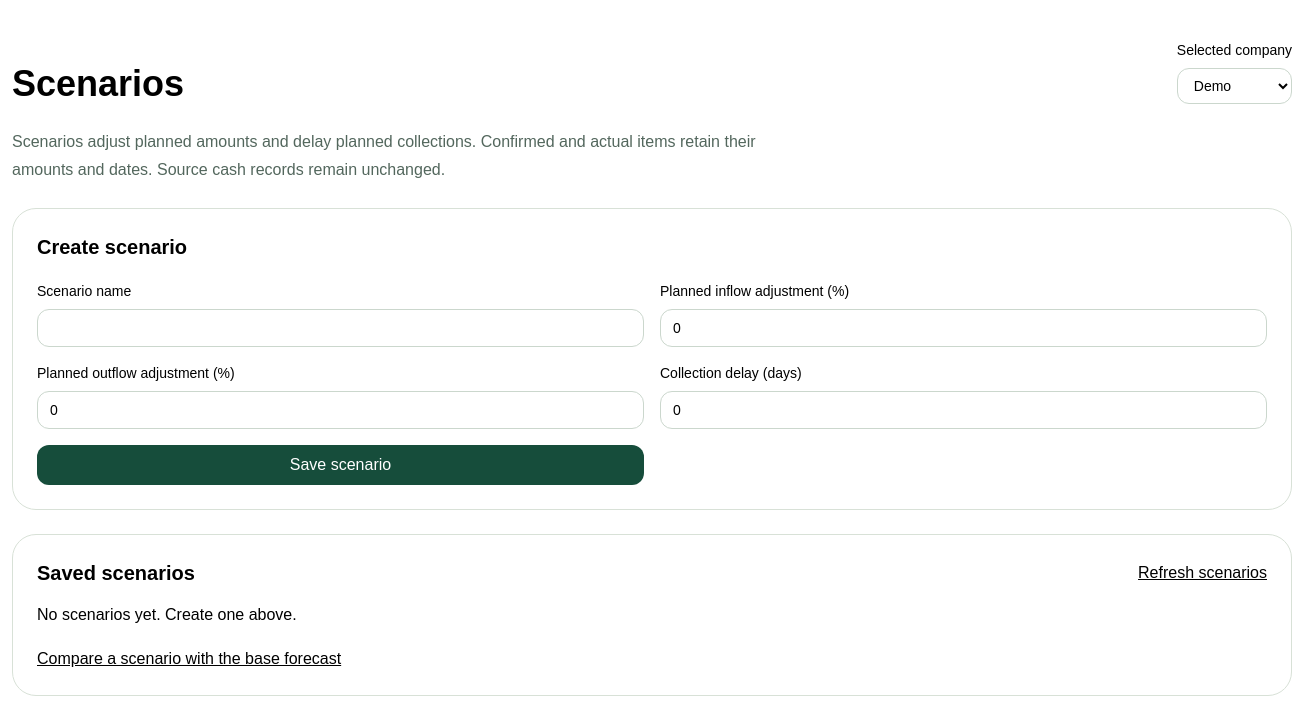
Test case: scenario form sends settings and deletion needs confirmation
Expected: the text "No scenarios yet. Create one above." is shown, [37,606,297,623]
Type "Downside" into the field labelled "Scenario name".
click(340, 328); type("Downside")  # box [37,309,644,347]
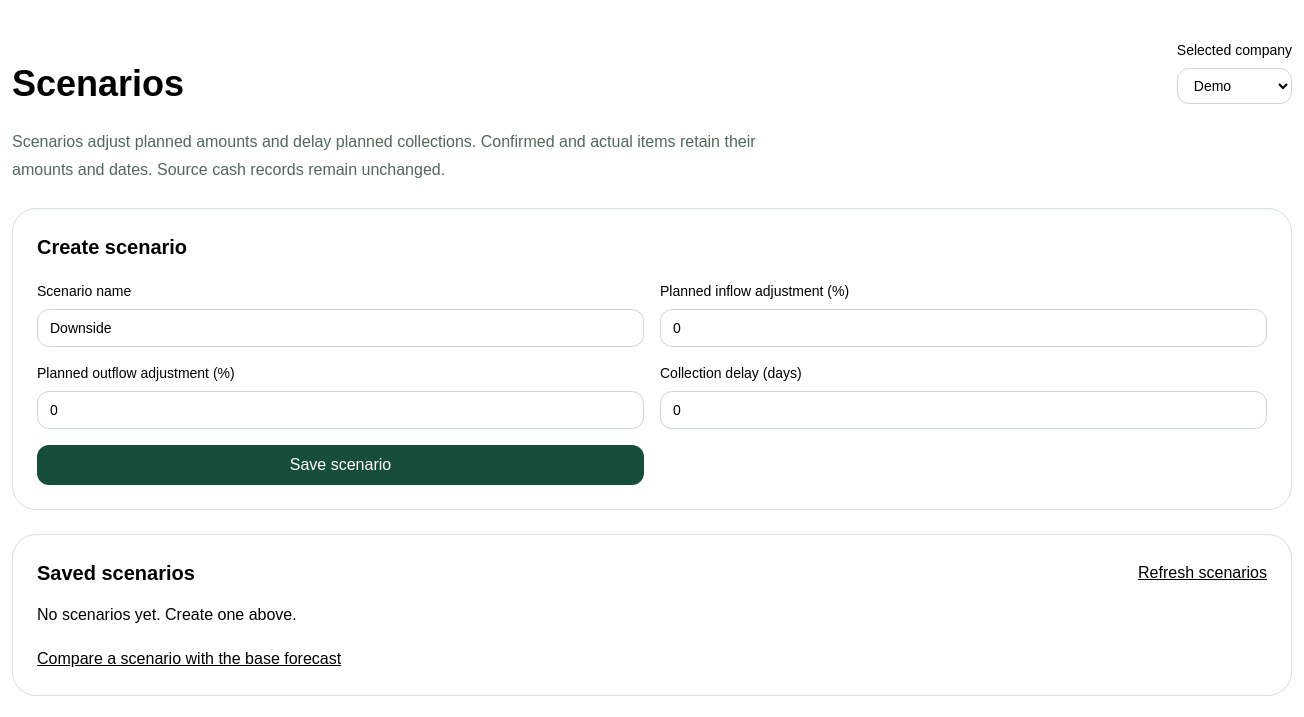
Replace the text in the number field labelled "Collection delay (days)" with "7" at [964, 410], box [660,391,1267,429]
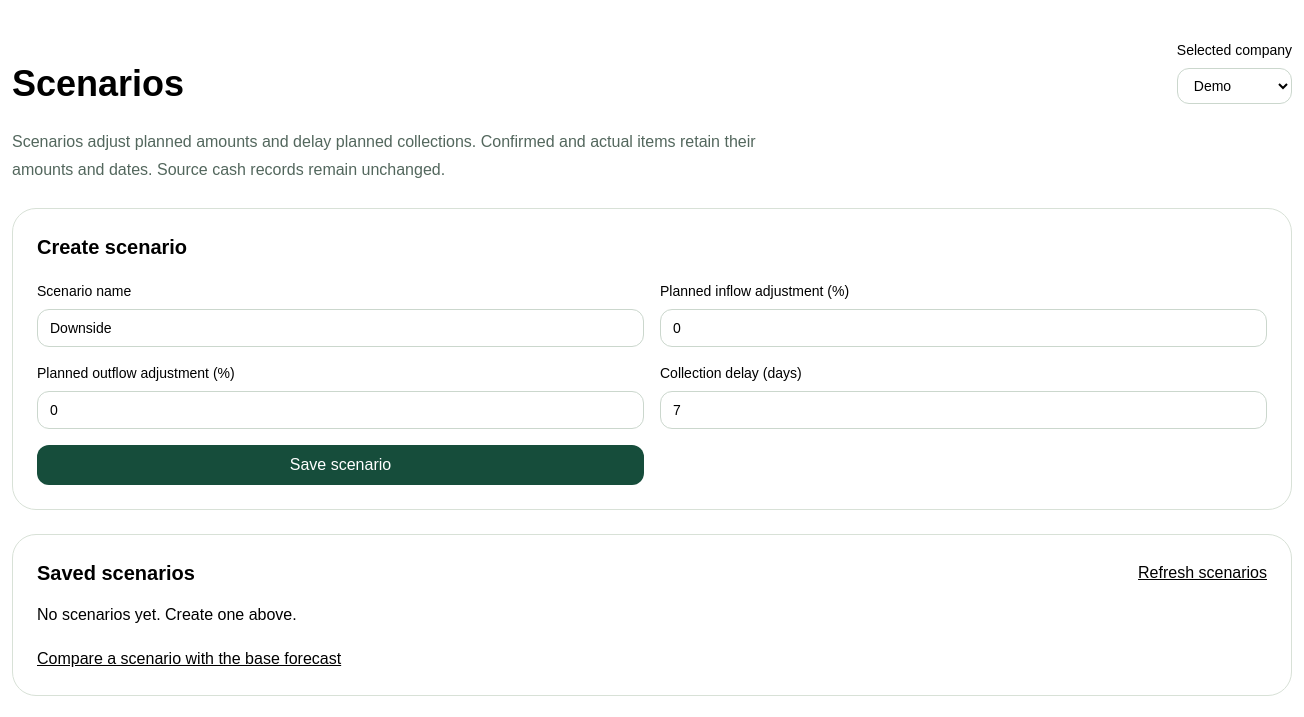
Submit the form named "Scenario settings", box [12,208,1292,510]
(page scrolled)
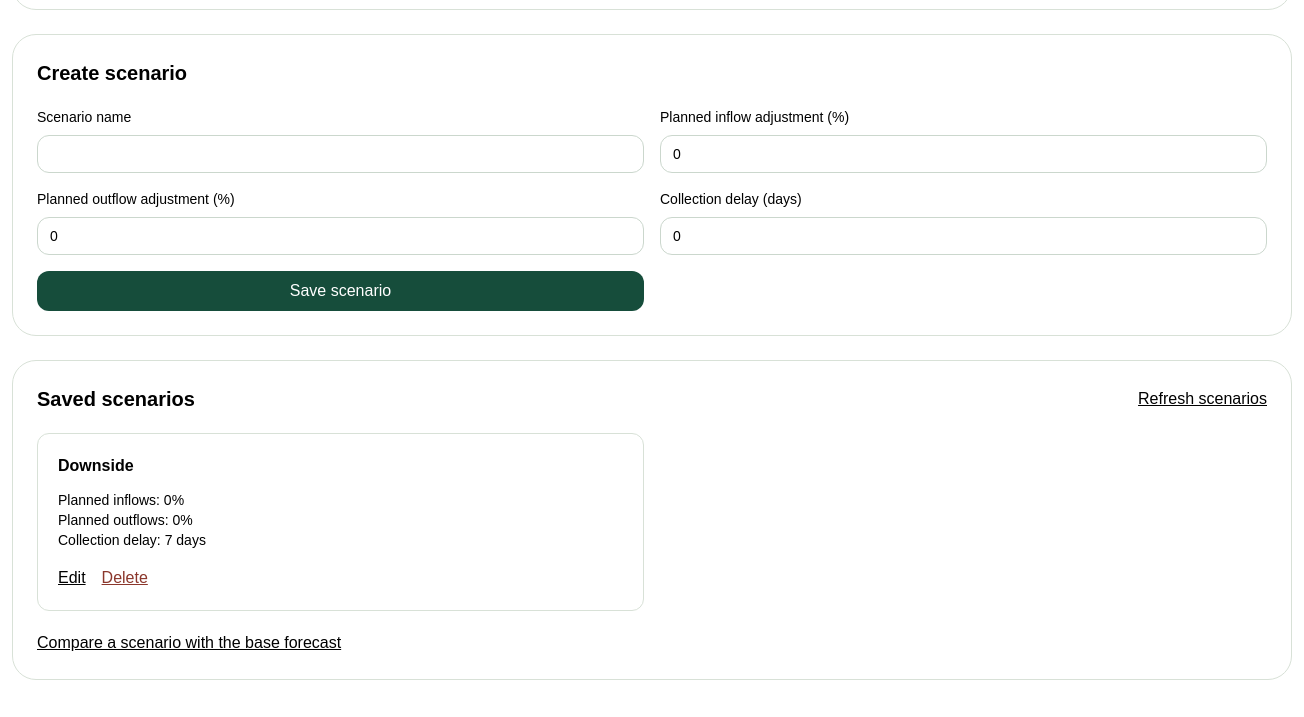
Now the button with aria-label "Delete scenario Downside" is shown
Click the button with aria-label "Delete scenario Downside".
click(125, 578)  # box [102,566,148,590]
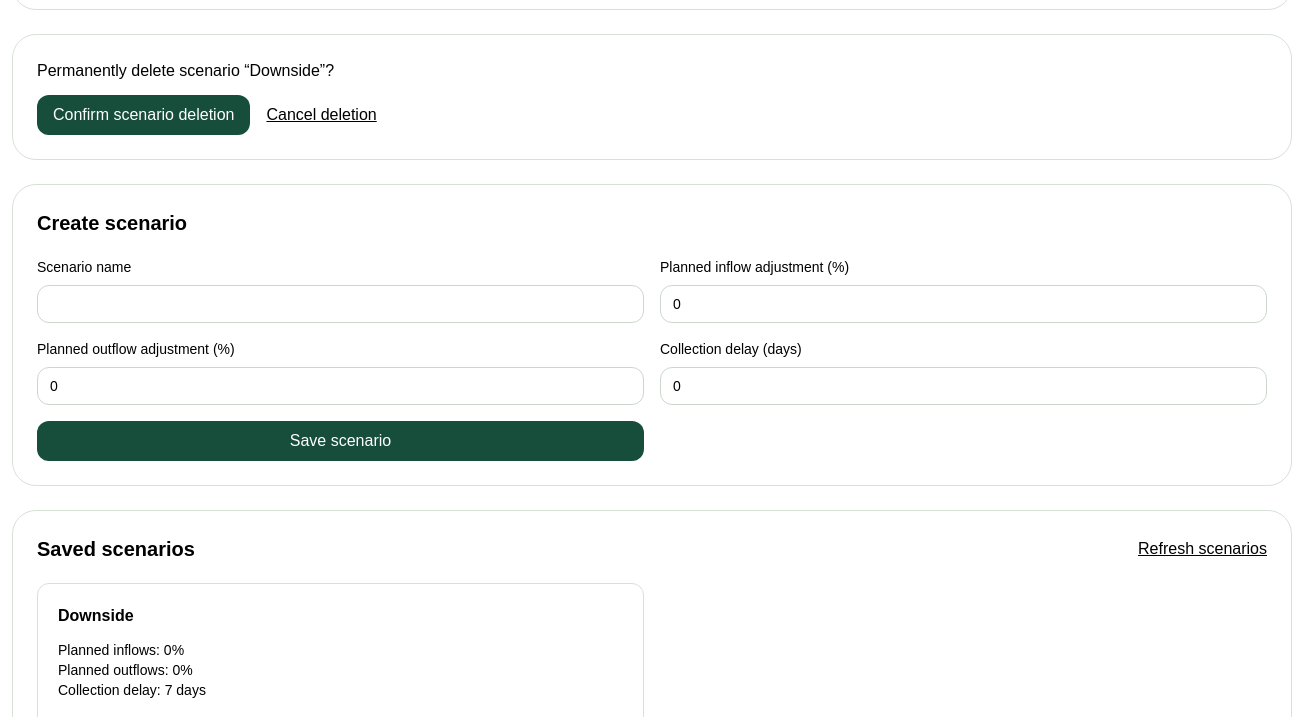
Click the button "Confirm scenario deletion".
click(144, 115)  # box [37,95,250,135]
(page scrolled)
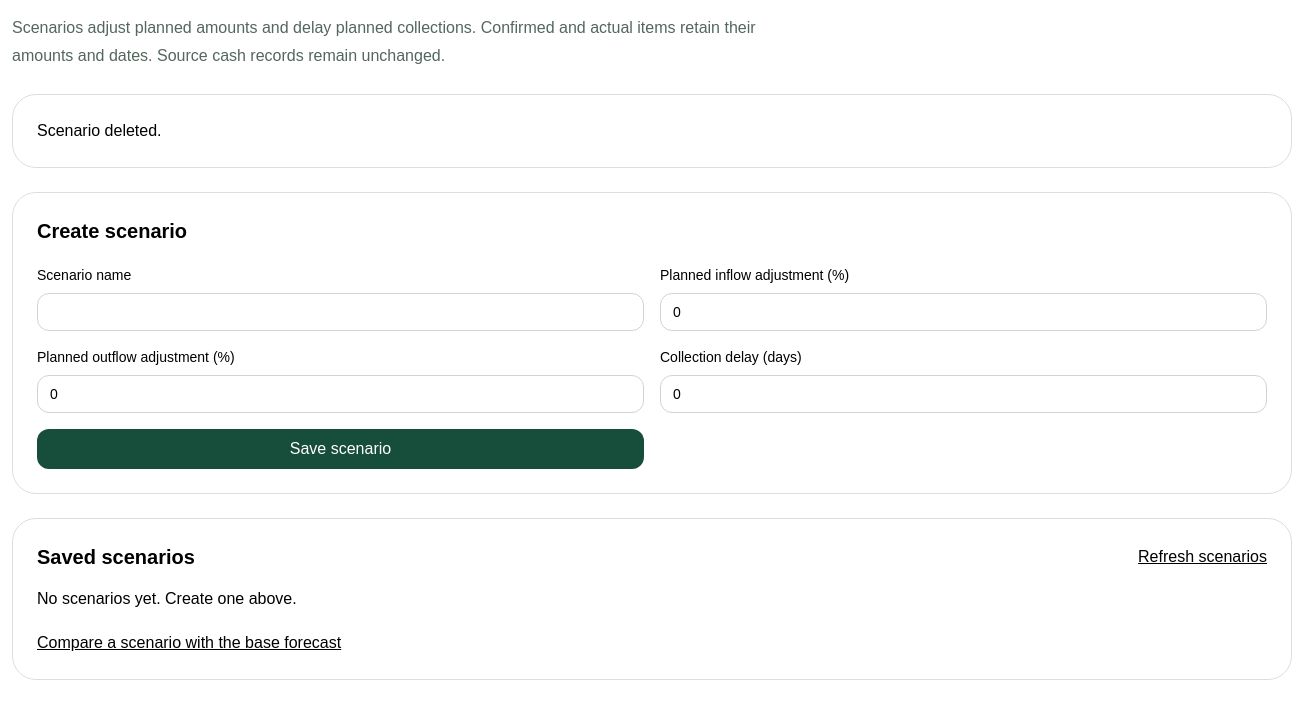
Now the text "No scenarios yet. Create one above." is shown, box [37,590,297,607]
